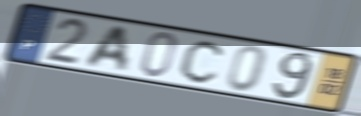0: (224, 44, 269, 94), (138, 31, 180, 79)
2: (43, 17, 91, 67)
9: (270, 50, 316, 101)
A: (82, 24, 130, 74)
C: (177, 38, 229, 85)
